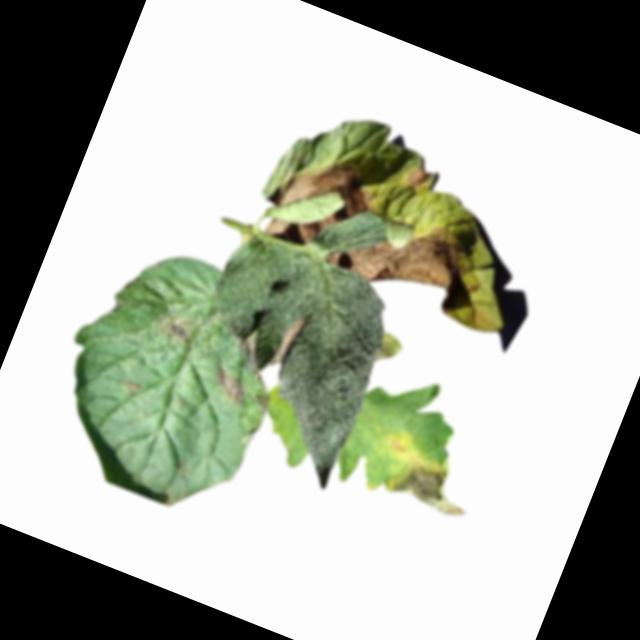Late_blight: (325, 193, 495, 322), (261, 144, 379, 265), (367, 427, 484, 524), (154, 306, 201, 353), (269, 312, 306, 371), (206, 365, 254, 409), (402, 161, 438, 198), (372, 332, 405, 372), (118, 377, 146, 403)
healthy: (161, 228, 404, 490)
